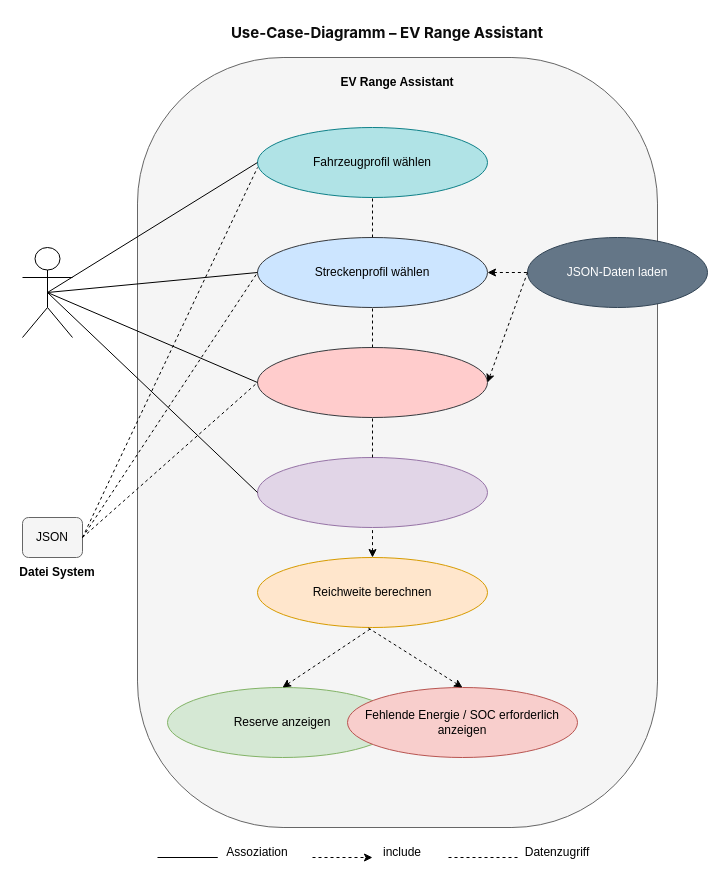
Image size: 725x884. Some labels were removed from this diagram. The centre of each missing label's shape, as x and y in pixels:
Benutzer: the point at 47,292
Ladestand eingeben: the point at 372,492
Wetterprofil wählen: the point at 372,382
